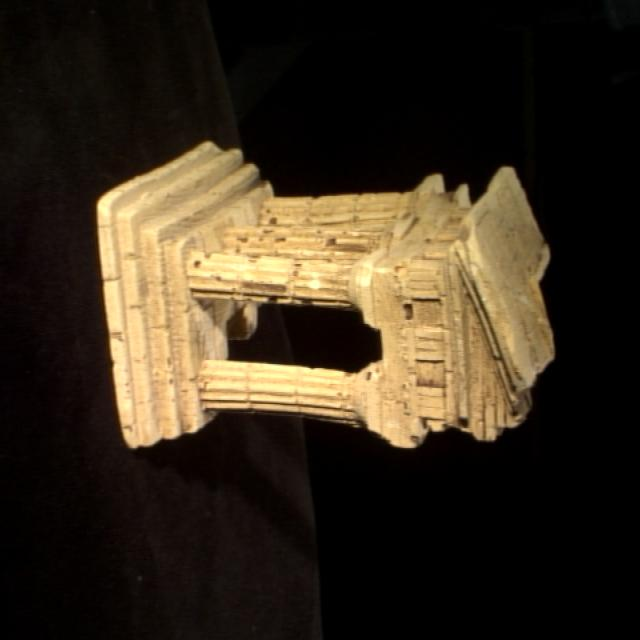Instance-Segmentation: (98, 141, 553, 447)
